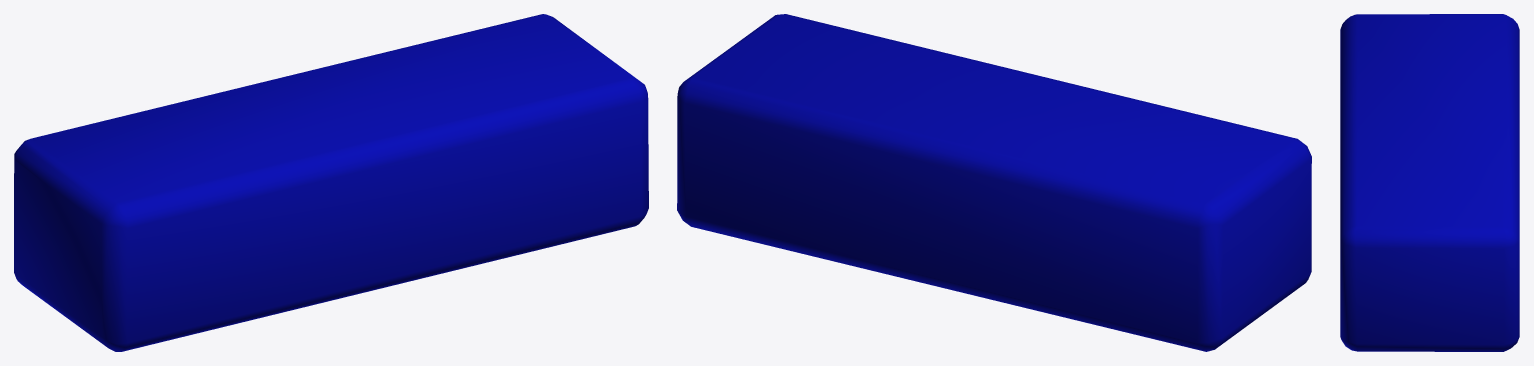
File: battery.dae
3 renders of one model, left to right at view 1: azimuth 30°, elevation 25°; view 2: azimuth 150°, elevation 25°; view 3: azimuth 270°, elevation 25°, orthographic. The views are drawn at different scales.
Parts seen in each view (by area): view 1: battery_6c_3000mAh; view 2: battery_6c_3000mAh; view 3: battery_6c_3000mAh.
Boxes of the visible parts, left/top/right/bottom form: battery_6c_3000mAh: left=14, top=14, right=648, bottom=351; battery_6c_3000mAh: left=677, top=14, right=1311, bottom=351; battery_6c_3000mAh: left=1340, top=14, right=1519, bottom=351.
Bounding box in the file's own units: 0.1298 × 0.0438 × 0.0338.
